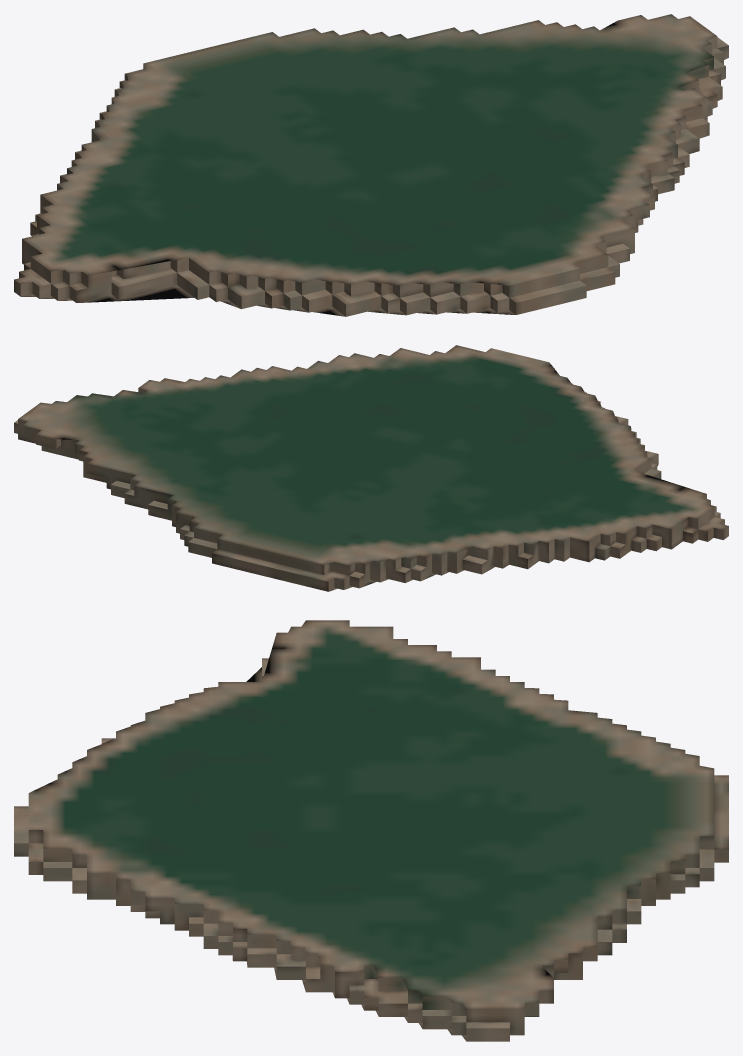
The model's file is ilhaXimba1.fbx.
3 renders of one model, top to bottom at view 1: azimuth 30°, elevation 25°; view 2: azimuth 150°, elevation 25°; view 3: azimuth 270°, elevation 25°, orthographic. The views are drawn at different scales.
Parts seen in each view (by area): view 1: HeightMapMk2-Ximboso-0; view 2: HeightMapMk2-Ximboso-0; view 3: HeightMapMk2-Ximboso-0.
Part boxes in pixels (x1,y1,x2,y2): HeightMapMk2-Ximboso-0: (14,14,728,316); HeightMapMk2-Ximboso-0: (14,345,728,591); HeightMapMk2-Ximboso-0: (14,620,728,1041).
Bounding box in the file's own units: 660 × 20 × 490.
